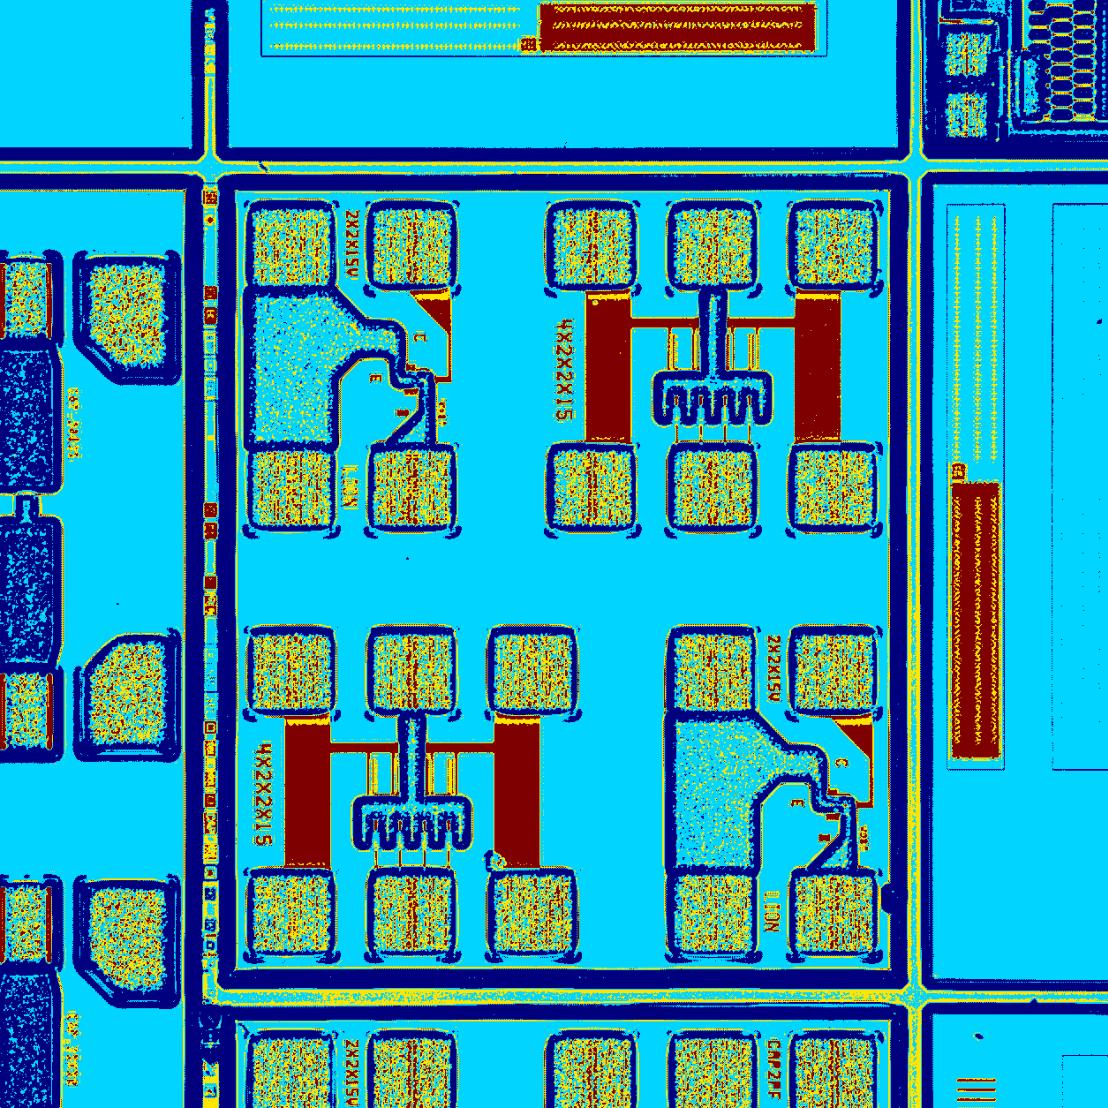Die: (216, 172, 908, 991)
Pad 3: (254, 210, 330, 286), (373, 449, 451, 525), (794, 876, 872, 951), (373, 876, 451, 951), (674, 635, 751, 710), (673, 209, 751, 283), (254, 876, 330, 951), (495, 876, 571, 951), (677, 875, 752, 951), (674, 451, 751, 525), (494, 635, 571, 709), (555, 451, 631, 525), (373, 209, 449, 283), (254, 635, 330, 709), (554, 211, 631, 284), (372, 636, 451, 708), (797, 209, 872, 283), (254, 451, 330, 524), (797, 451, 872, 524), (797, 636, 872, 708)
